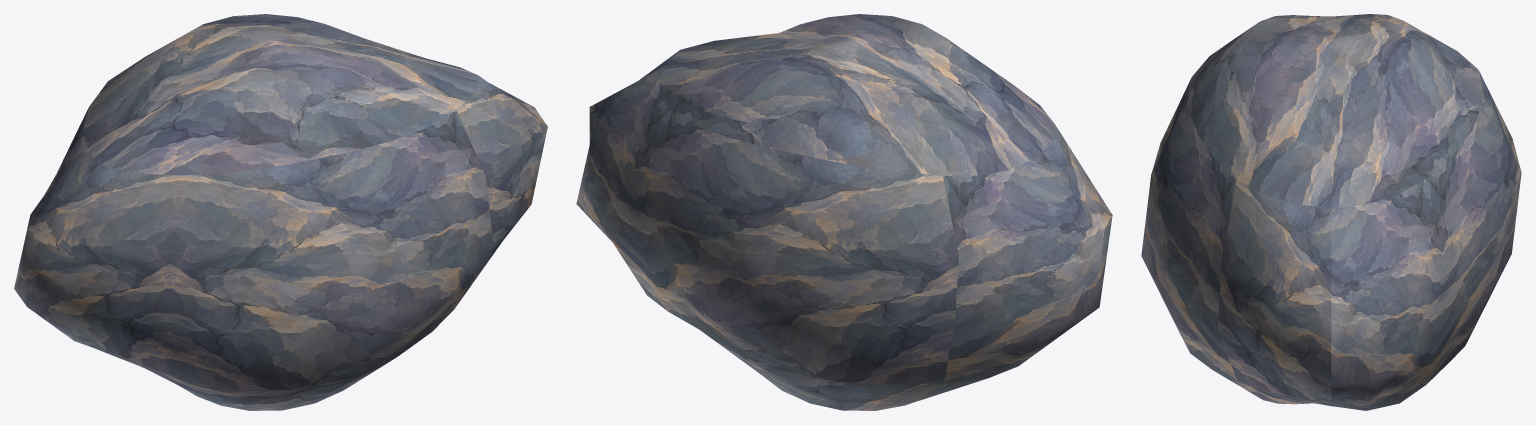
File: NaturalRock_02.fbx
The picture shows the model from 3 angles, left to right: view 1: azimuth 30°, elevation 25°; view 2: azimuth 150°, elevation 25°; view 3: azimuth 270°, elevation 25°; orthographic projection. The views are drawn at different scales.
Visible parts, largest first — view 1: NaturalRock_02.001; view 2: NaturalRock_02.001; view 3: NaturalRock_02.001.
Part boxes in pixels (x1,y1,x2,y2): NaturalRock_02.001: [14, 14, 547, 410]; NaturalRock_02.001: [576, 14, 1112, 410]; NaturalRock_02.001: [1141, 14, 1521, 410].
Size of the model in its own units: 365 by 233 by 232.
Materials: 1 (1 with a texture image).
